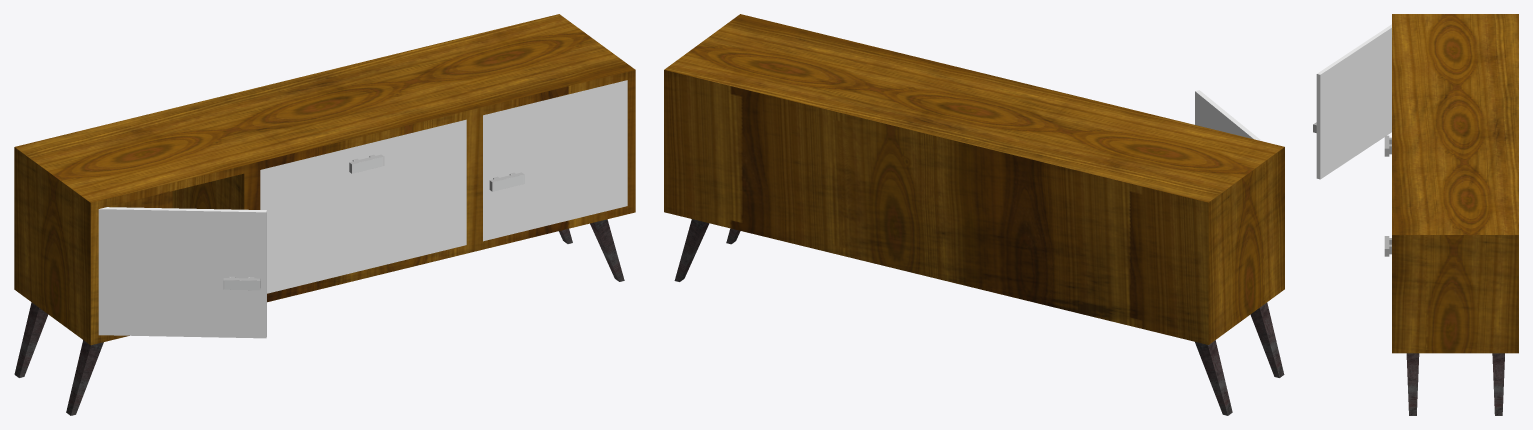
The picture shows the model from 3 angles, left to right: view 1: azimuth 30°, elevation 25°; view 2: azimuth 150°, elevation 25°; view 3: azimuth 270°, elevation 25°; orthographic projection. The views are drawn at different scales.
Parts seen in each view (by area): view 1: movel, Merged, Porta, pe; view 2: movel, Merged, Porta, pe; view 3: movel, Porta, Merged.
Boxes of the visible parts, x1,y1,x2,y2 form: movel: (14, 14, 635, 345); Merged: (14, 80, 627, 377); Porta: (98, 207, 266, 338); pe: (66, 340, 103, 415); movel: (664, 14, 1284, 344); Merged: (674, 219, 1232, 415); Porta: (1195, 90, 1261, 140); pe: (1250, 302, 1284, 377); movel: (1392, 14, 1518, 353); Porta: (1316, 24, 1391, 179); Merged: (1384, 135, 1504, 415).
Bounding box in the file's own units: 4.07 × 1.53 × 1.57.
Materials: 2 (2 with a texture image).
